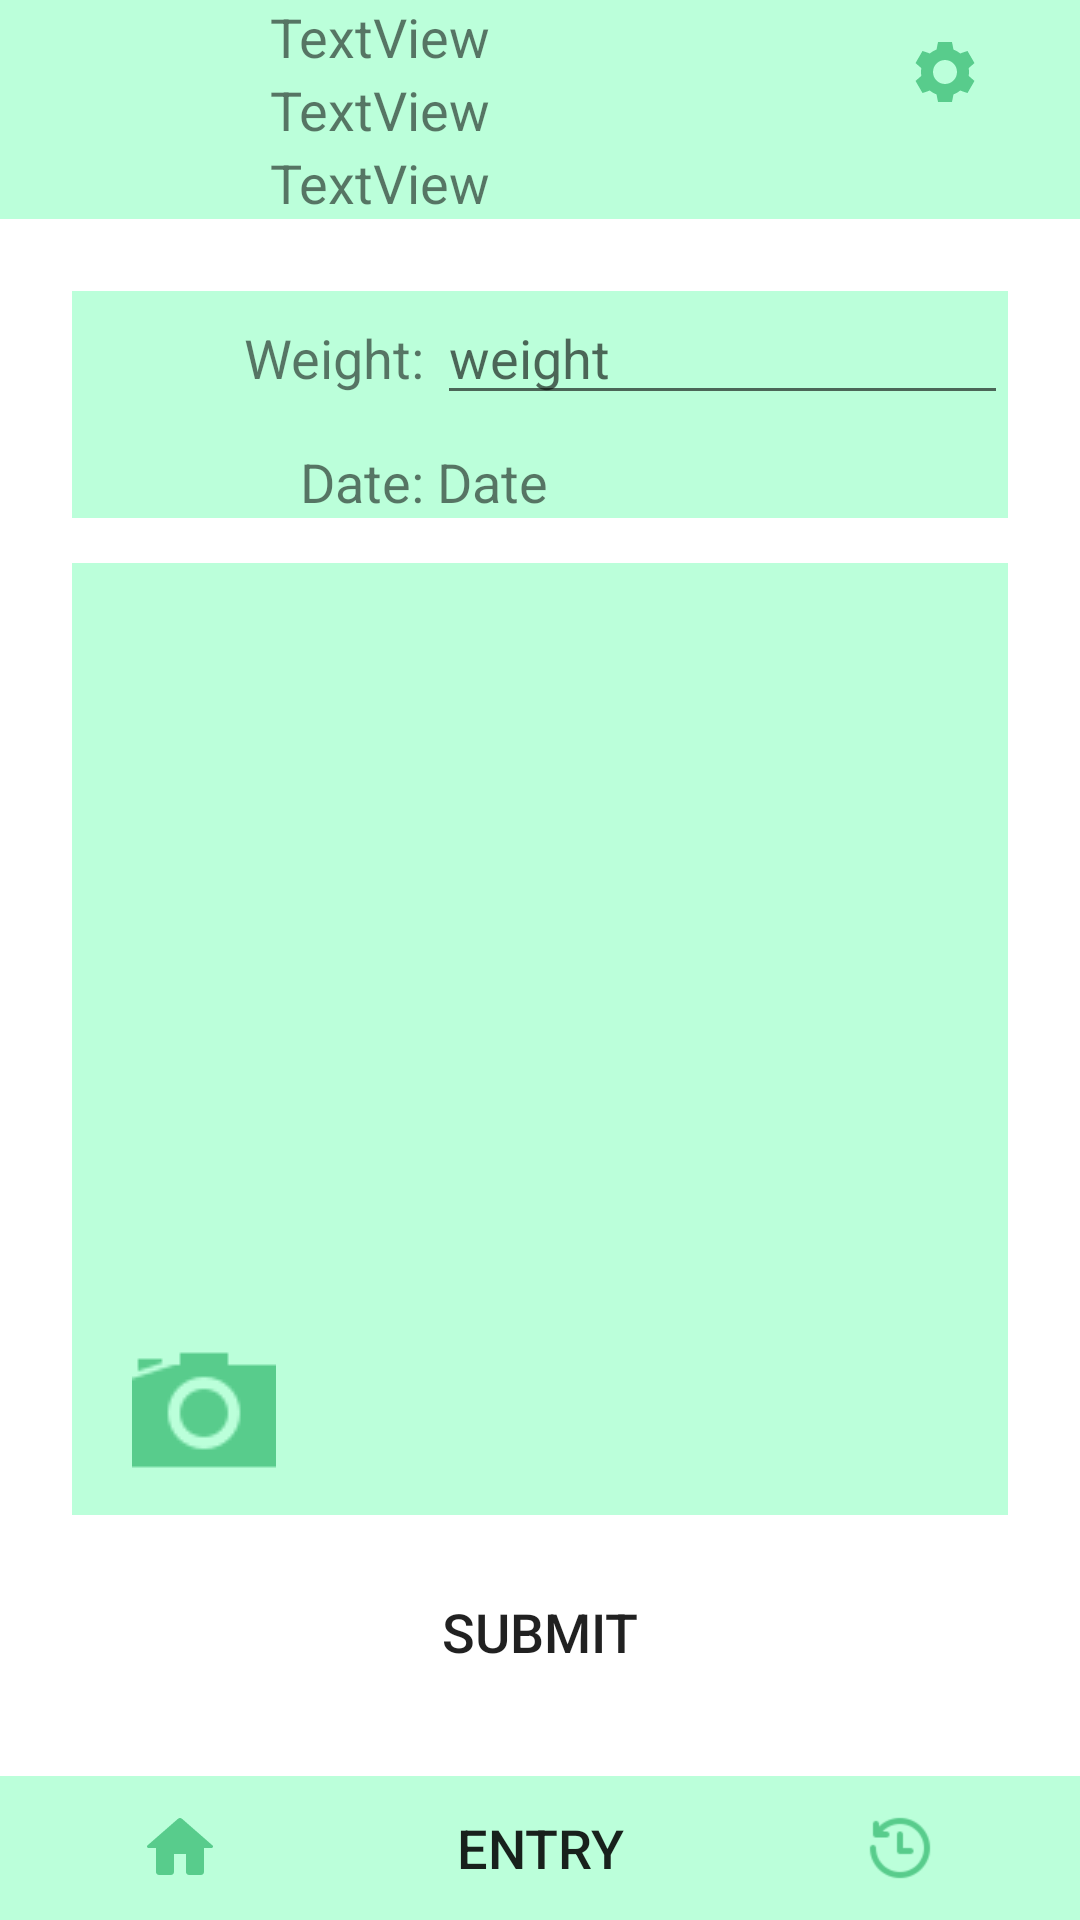

Icon click points for this 1080px×1920px phone screenshot, format (x=x, y=y):
camera: (x=204, y=1410)
home: (x=180, y=1846)
settings: (x=945, y=72)
